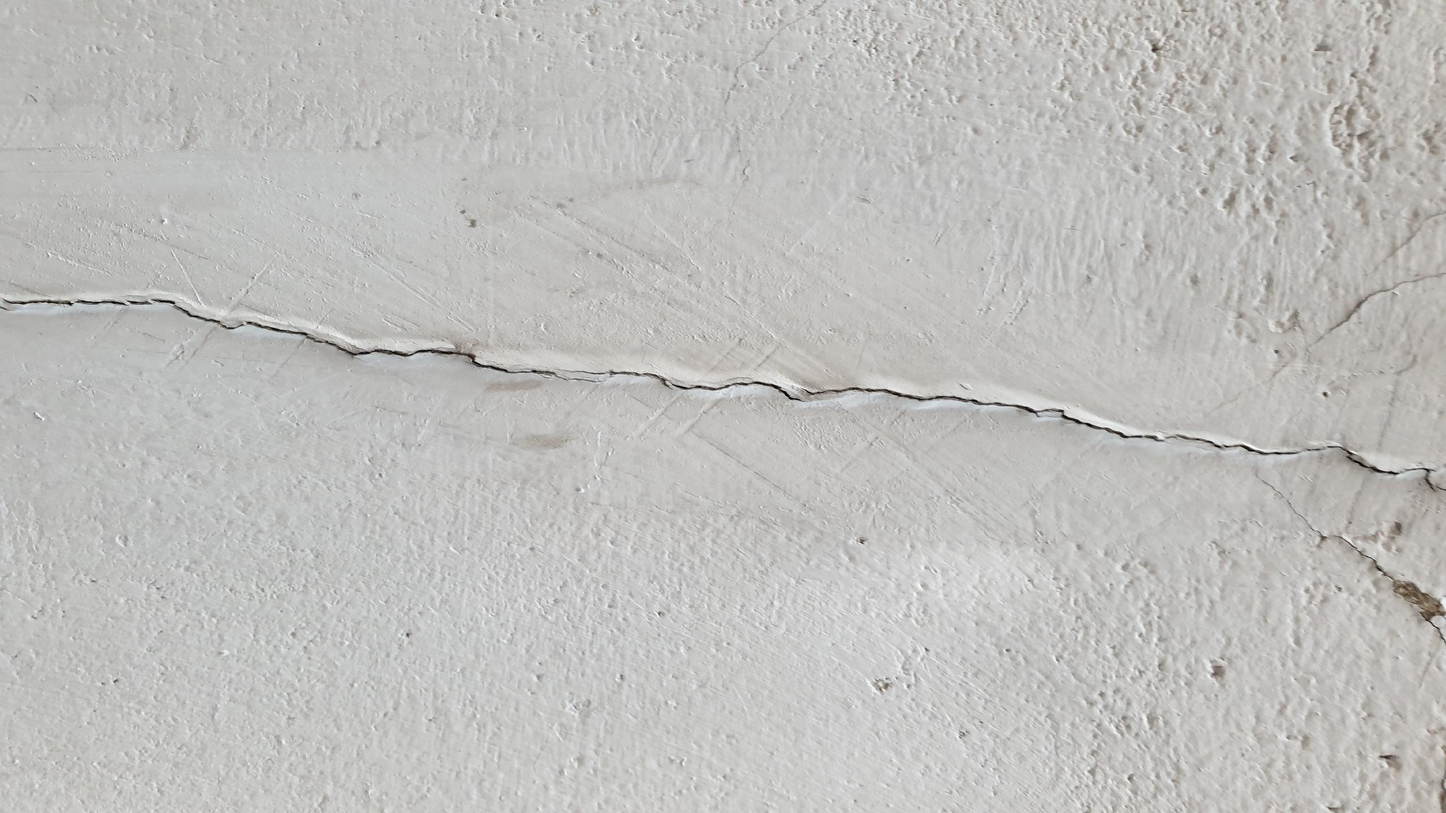crack: (804, 386, 1440, 493), (4, 298, 598, 383), (570, 368, 806, 404)
